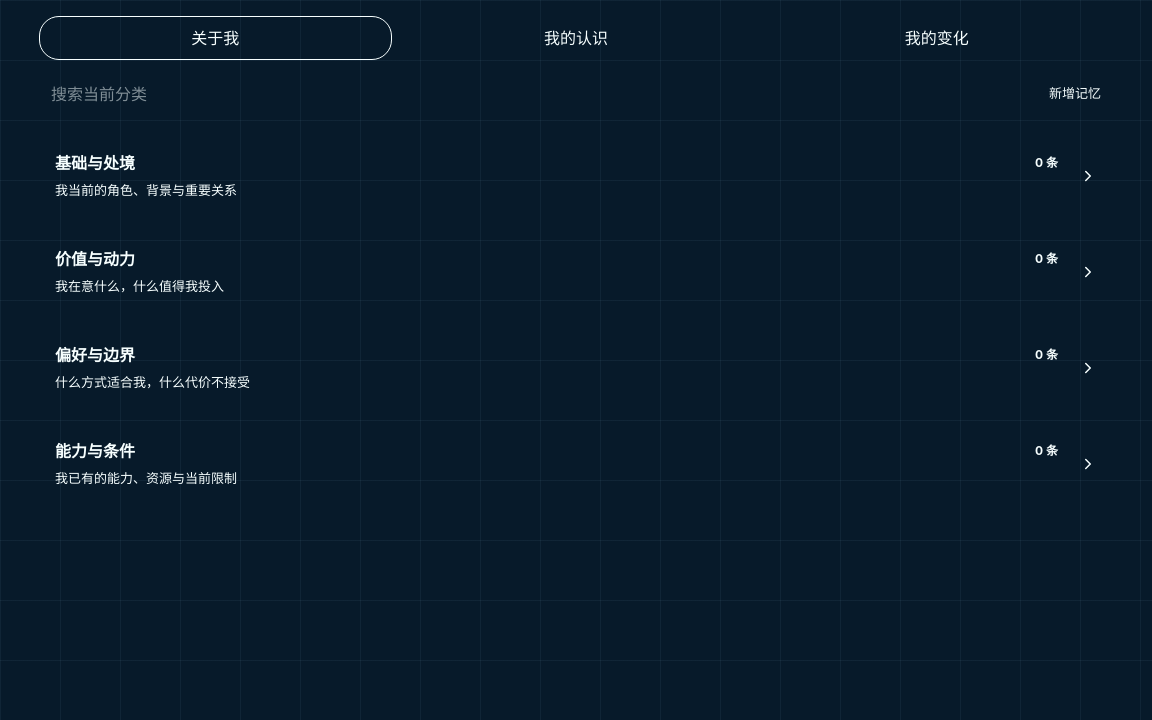
Test: shows concise evidence counts and lets a person confirm or set aside an interpretation
The image size is (1152, 720).
Click the button "我的认识" at (576, 38), box [400,16,752,60]
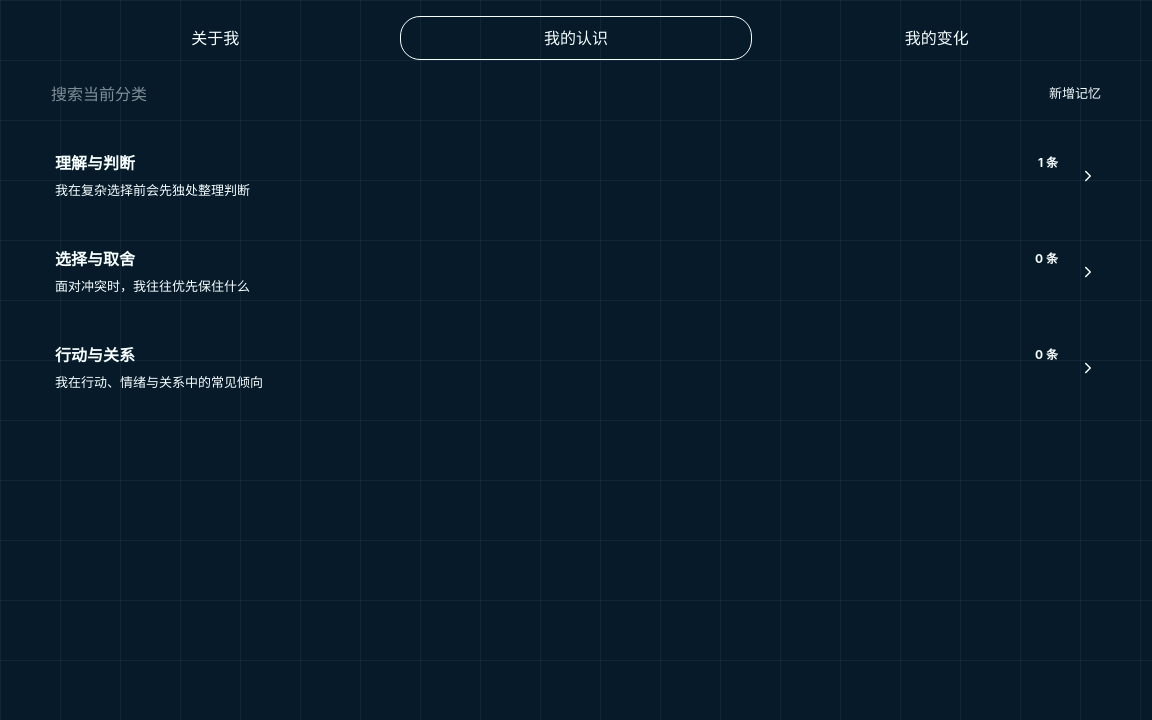
Click the button "理解与判断 1 条 我在复杂选择前会先独处整理判断" at (95, 163), box [39,132,1113,220]
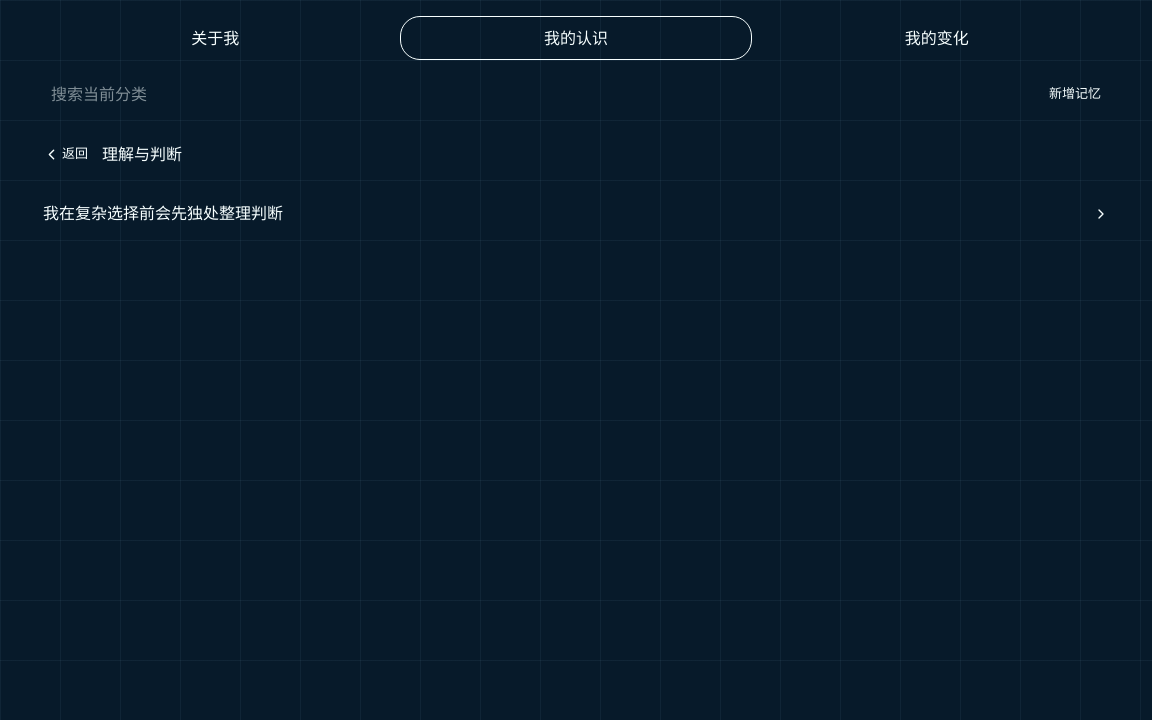
Click the button "我在复杂选择前会先独处整理判断" at (163, 213), box [39,180,1113,247]
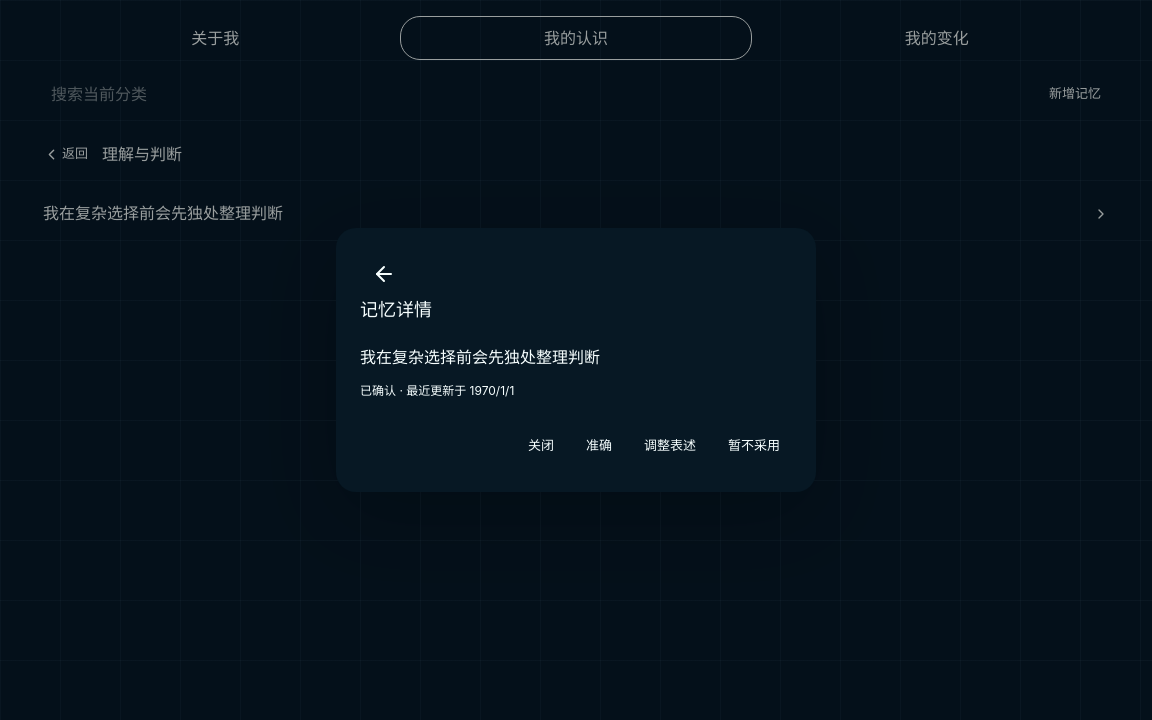
Click the button "准确" at (599, 446), box [574,424,624,468]
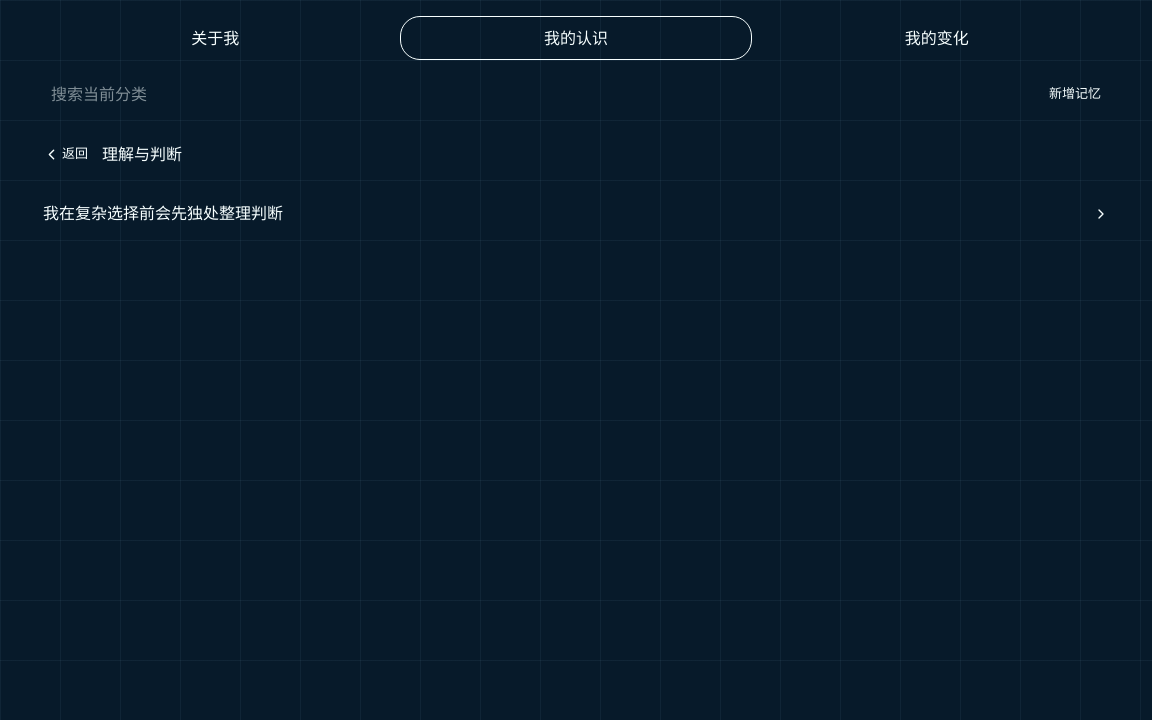
Now the dialog is gone
